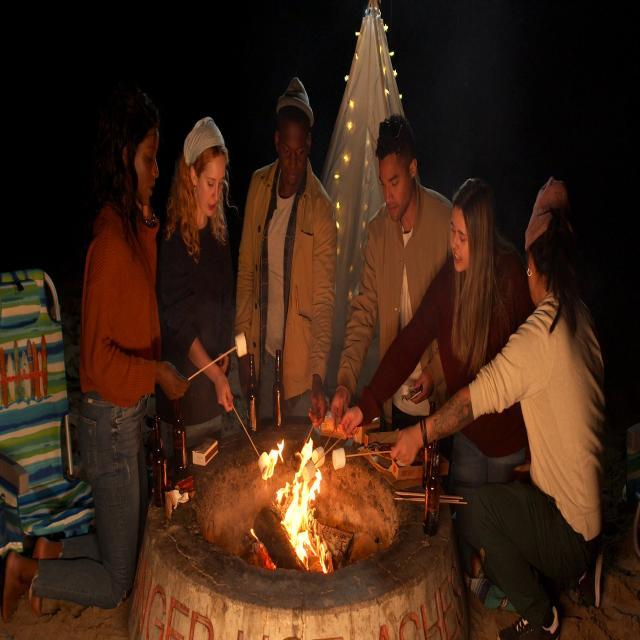Fire: (268, 429, 335, 569)
